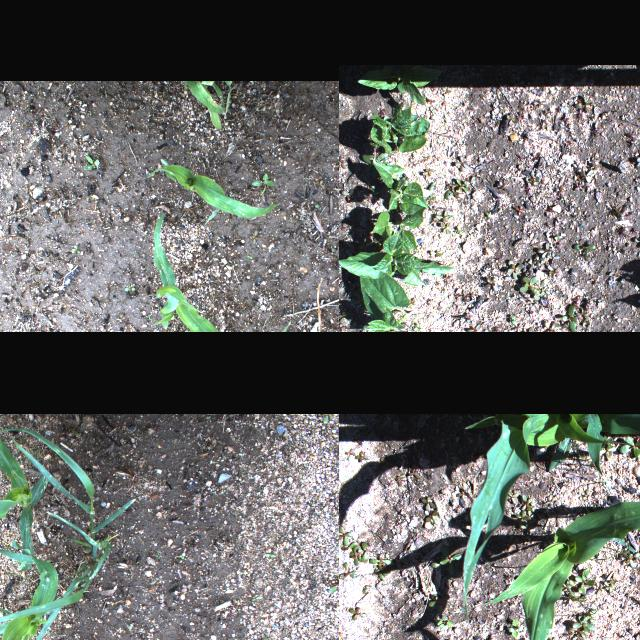crop: (461, 413, 640, 622), (483, 499, 640, 640), (149, 210, 300, 332), (142, 158, 282, 226), (0, 413, 50, 572), (339, 233, 454, 286), (0, 539, 60, 640), (353, 263, 423, 332), (372, 147, 432, 210), (356, 66, 442, 104), (368, 103, 428, 155), (367, 202, 425, 254), (184, 80, 224, 130), (223, 81, 231, 113)
weed: (0, 427, 134, 553), (0, 540, 112, 640), (562, 582, 594, 612), (438, 544, 459, 576), (250, 173, 276, 195), (570, 438, 590, 466), (518, 277, 540, 301), (574, 569, 596, 591), (561, 305, 577, 332), (570, 615, 594, 633), (619, 435, 640, 455), (620, 550, 640, 569), (428, 592, 449, 610), (506, 617, 522, 637), (339, 562, 356, 580), (418, 493, 436, 509), (79, 155, 99, 169), (448, 449, 462, 469), (435, 614, 455, 628), (348, 606, 368, 620), (37, 626, 64, 636), (368, 554, 390, 566), (339, 523, 352, 543), (600, 445, 616, 461), (422, 509, 438, 525), (326, 576, 339, 594), (370, 566, 388, 578), (346, 550, 359, 566), (5, 573, 29, 581), (520, 495, 532, 511), (514, 510, 530, 522), (406, 466, 418, 482), (353, 451, 369, 463), (352, 430, 364, 446), (392, 469, 404, 485), (602, 580, 612, 596), (343, 448, 353, 464), (360, 540, 368, 560), (361, 583, 374, 595), (339, 541, 355, 550), (508, 490, 518, 504), (512, 524, 526, 534), (594, 581, 602, 597), (308, 204, 318, 216), (249, 230, 257, 244), (315, 179, 325, 189), (68, 426, 78, 436), (456, 489, 466, 499), (428, 559, 438, 569), (50, 455, 58, 467), (609, 575, 617, 587), (60, 429, 70, 438), (339, 512, 346, 524), (70, 245, 80, 253), (264, 552, 276, 558), (566, 628, 572, 640), (124, 286, 134, 292), (573, 634, 583, 640), (454, 504, 460, 514), (281, 626, 287, 634), (252, 596, 262, 600), (178, 554, 184, 560), (155, 552, 161, 558), (570, 579, 574, 587), (180, 329, 187, 332)
